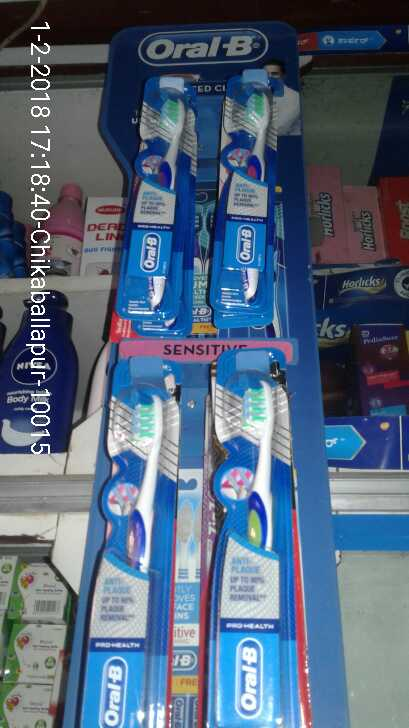oralb: (197, 343, 309, 728), (89, 370, 163, 724), (214, 67, 286, 325), (126, 83, 193, 332)
